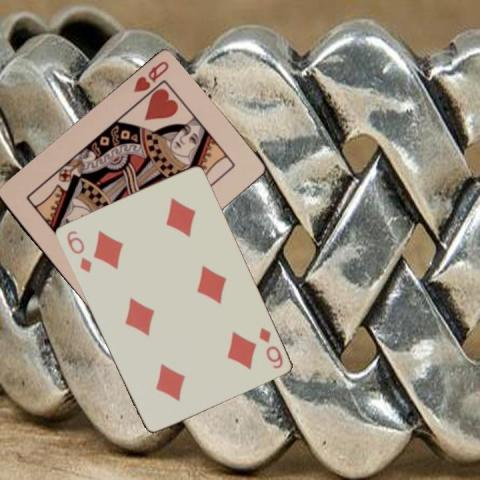6d: (64, 227, 94, 274), (255, 324, 284, 370)
Qh: (130, 58, 171, 95)
